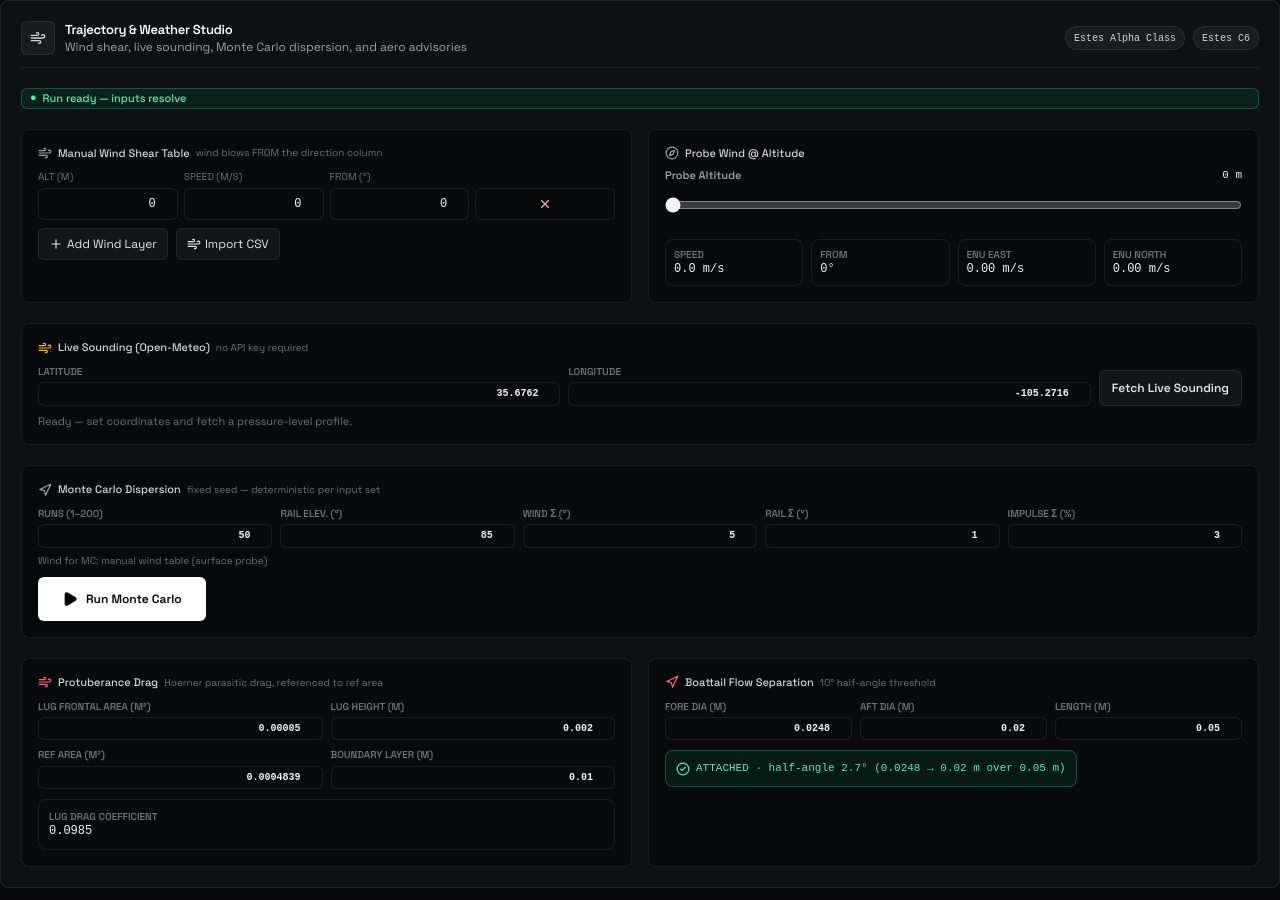
Scenario: TrajectoryStudio › shows the sounding layer count when a valid profile is fetched
Click the button "Fetch Live Sounding" at (1170, 388), box [1099,370,1242,406]
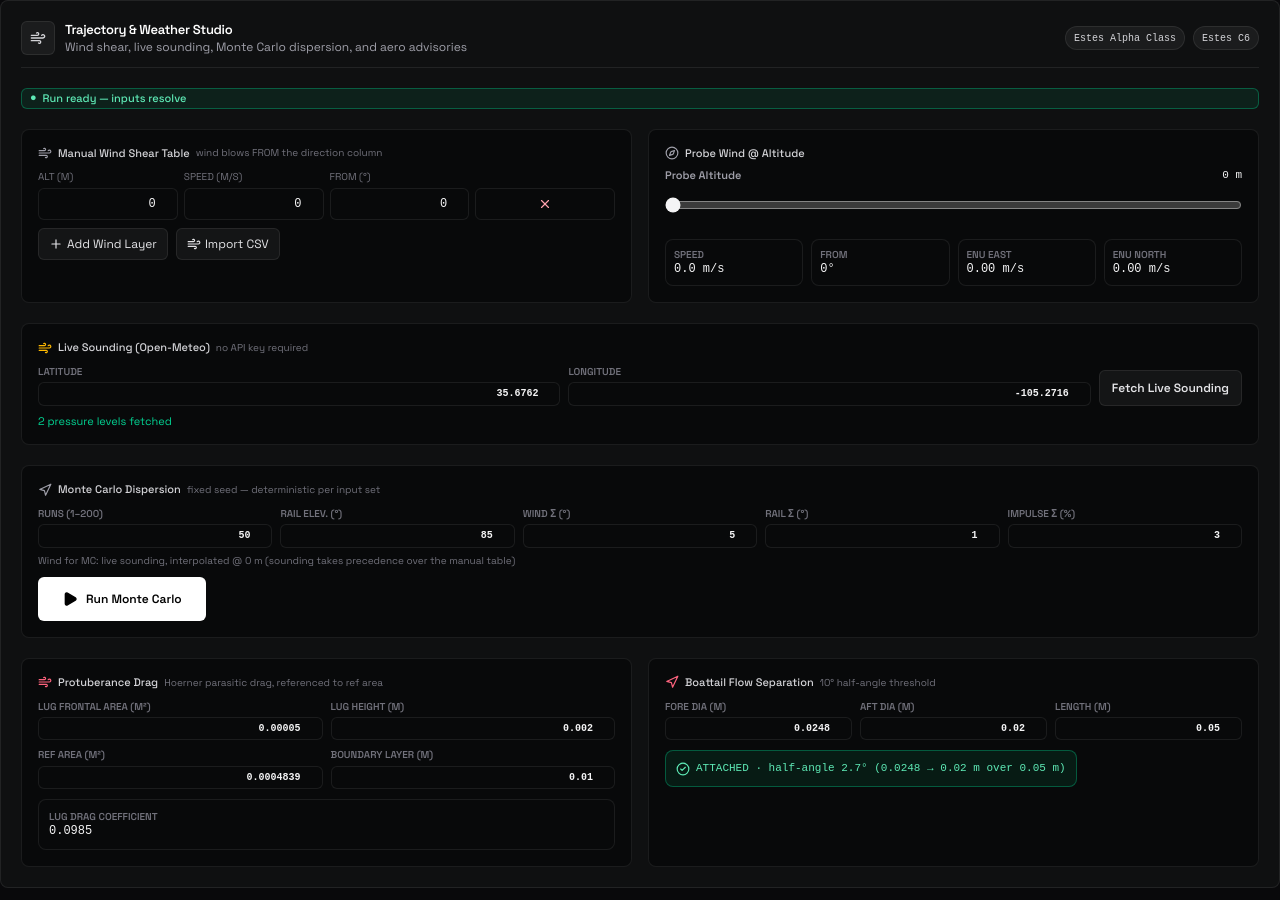
Now the text "2 pressure levels fetched" is shown, box [38,414,172,428]
Now the text "live sounding, interpolated @ 0 m" is shown, box [101,554,515,567]
